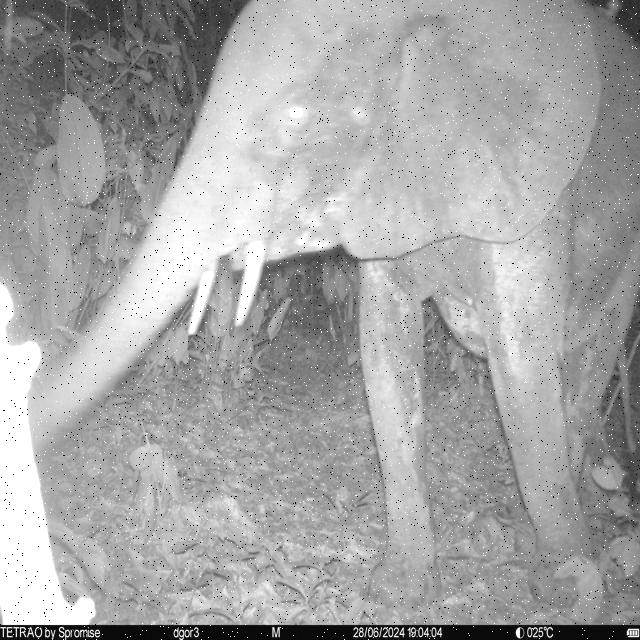ear: (340, 0, 601, 261)
elephant: (27, 0, 640, 611)
tusk: (233, 240, 266, 332), (187, 261, 220, 341)
